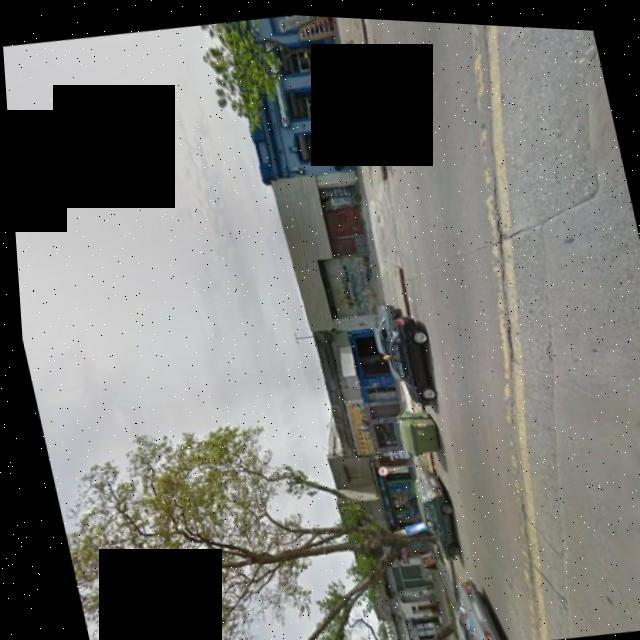bin: (382, 397, 440, 463)
